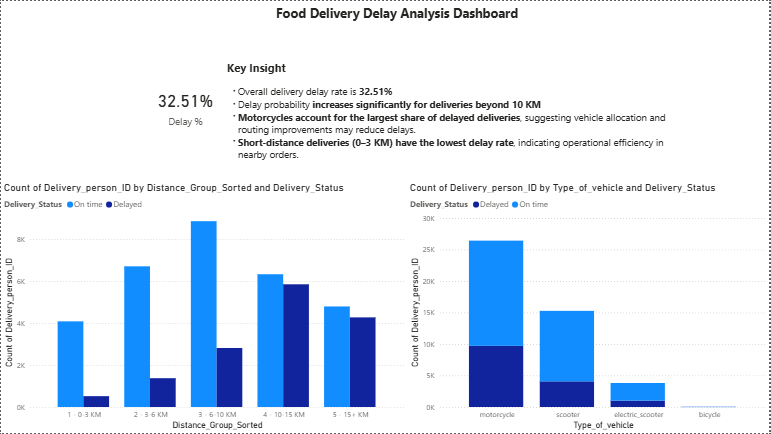

The dashboard page shown, as its layout file describes it:
{"tool":"powerbi","page":{"name":"Page 1","canvas":[1280,720],"ordinal":0},"visuals":[{"type":"card","fields":{"Values":["Cleaned_deliverytime.Delay %"]},"box":[244,94,128,164],"z":0},{"type":"clusteredColumnChart","fields":{"Y":["CountNonNull(Cleaned_deliverytime.Delivery_person_ID)"],"Series":["Cleaned_deliverytime.Delivery_Status"],"Category":["Cleaned_deliverytime.Distance_Group_Sorted"]},"box":[0,300,676,420],"z":1000},{"type":"columnChart","fields":{"Category":["Cleaned_deliverytime.Type_of_vehicle"],"Y":["CountNonNull(Cleaned_deliverytime.Delivery_person_ID)"],"Series":["Cleaned_deliverytime.Delivery_Status"]},"box":[676,300,604,420],"z":2000},{"type":"textbox","box":[395.6,0,530,105.6],"z":2001},{"type":"textbox","box":[372,94,762,182],"z":2002}]}

Visuals, with their boxes in screenshot pixels (x1, y1, x2, y2), scaled from the page's 1280x720 canvas onto the 771x434 screenshot:
card - Cleaned_deliverytime.Delay %: <region>147, 57, 224, 156</region>
clusteredColumnChart - CountNonNull(Cleaned_deliverytime.Delivery_person_ID) x Cleaned_deliverytime.Delivery_Status: <region>0, 181, 407, 433</region>
columnChart - Cleaned_deliverytime.Type_of_vehicle x CountNonNull(Cleaned_deliverytime.Delivery_person_ID): <region>407, 181, 770, 433</region>
textbox: <region>238, 0, 558, 64</region>
textbox: <region>224, 57, 683, 166</region>
